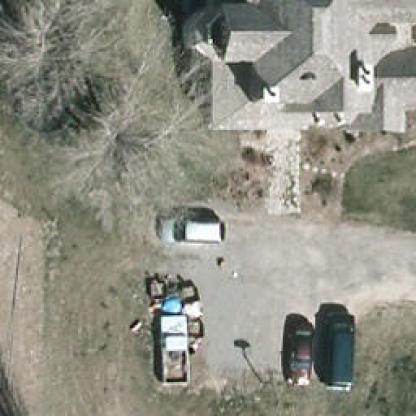car: (153, 214, 226, 244), (286, 316, 315, 388)
pickup: (158, 316, 188, 384)
van: (322, 308, 356, 392)
